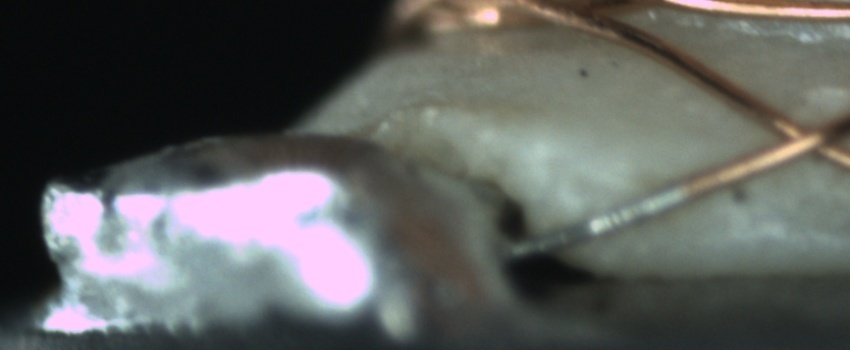CL: (745, 98, 849, 173)
TS: (514, 186, 692, 260)
